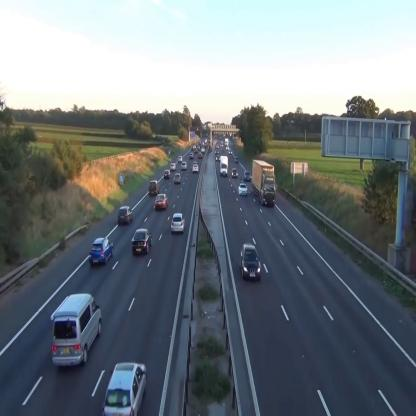car: (105, 363, 147, 416), (239, 243, 261, 280), (90, 238, 114, 264), (131, 228, 152, 256), (118, 206, 133, 224), (171, 214, 185, 233), (154, 193, 169, 210), (149, 181, 160, 195), (238, 183, 247, 195), (173, 173, 182, 182), (164, 169, 171, 180), (244, 171, 251, 180), (181, 160, 187, 170), (232, 168, 238, 178), (192, 164, 198, 172), (234, 155, 240, 163), (170, 163, 176, 170), (189, 152, 194, 158), (178, 155, 182, 162), (198, 152, 202, 158), (216, 154, 220, 160)
lorry: (51, 294, 103, 364), (252, 159, 276, 207), (220, 154, 228, 176)
